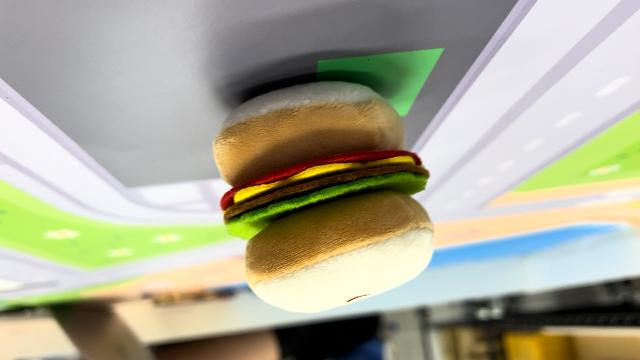sandwich: (210, 77, 438, 312)
